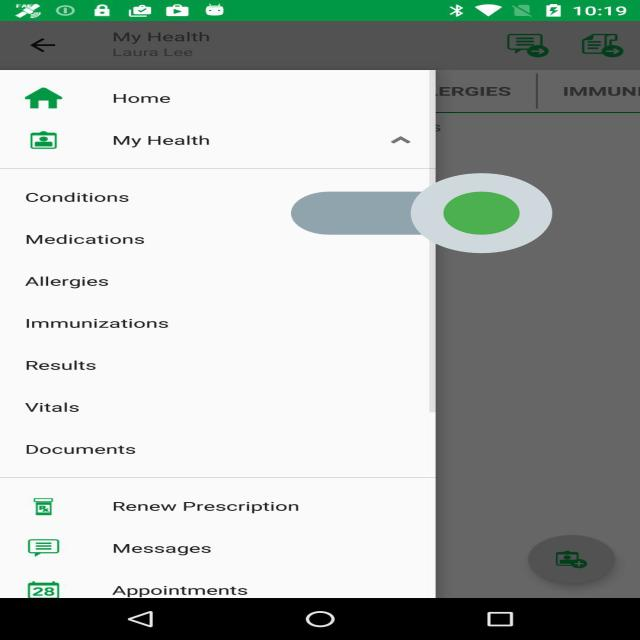social proof: (291, 139, 552, 287)
